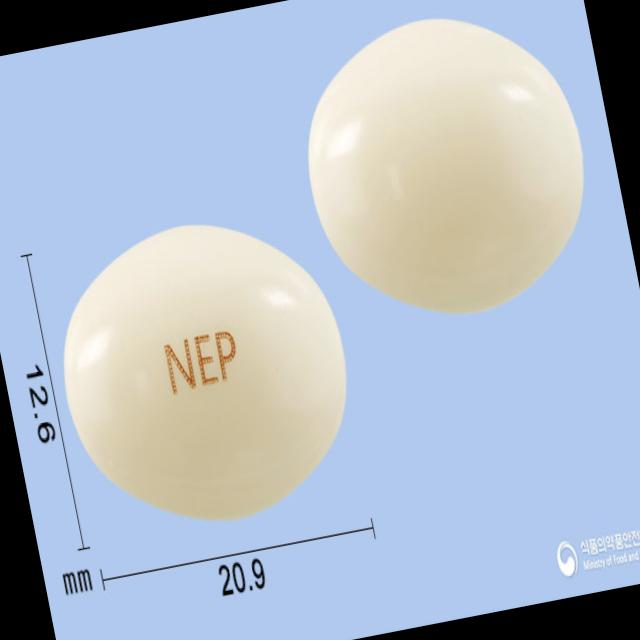Nepoxin Vaginal Soft Cap: (38, 196, 374, 547)
